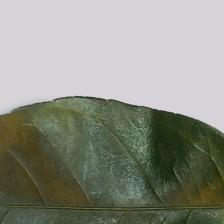healthy: (7, 111, 224, 224)
